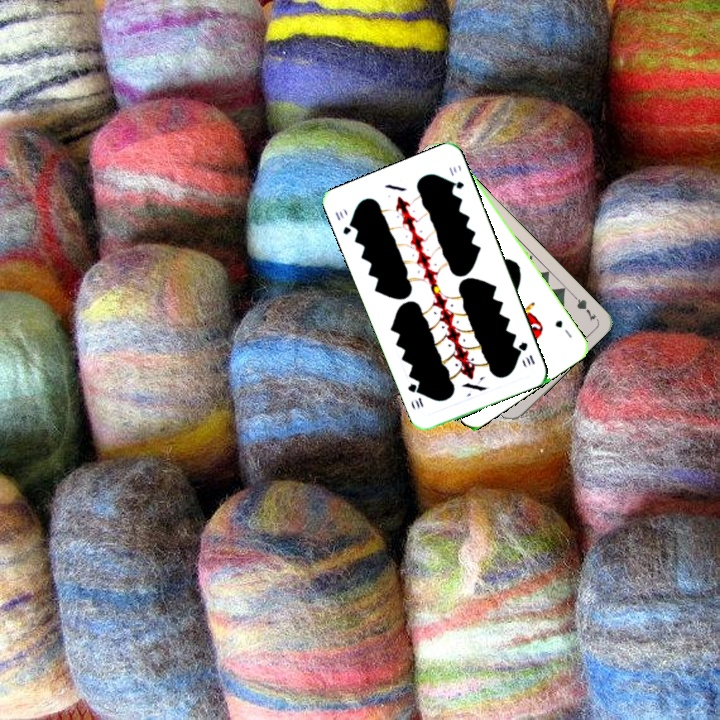G10: (514, 338, 538, 371), (331, 207, 357, 237)
G7: (567, 289, 599, 324)
GU: (551, 316, 575, 341)
